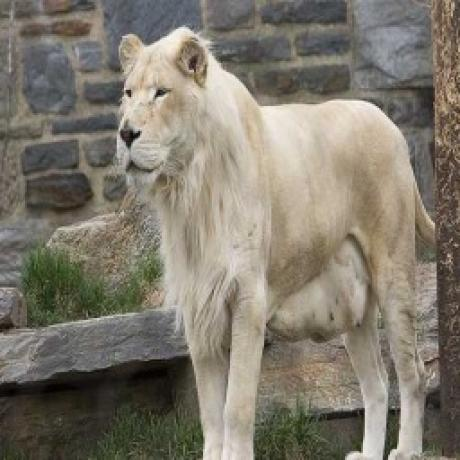Lion: (113, 23, 437, 460)
